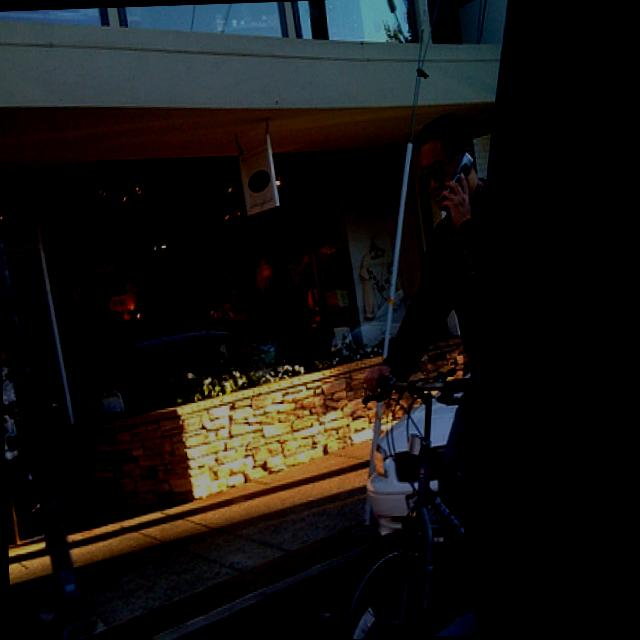Vehicle: (262, 0, 640, 640), (362, 370, 478, 548), (338, 286, 408, 348)
